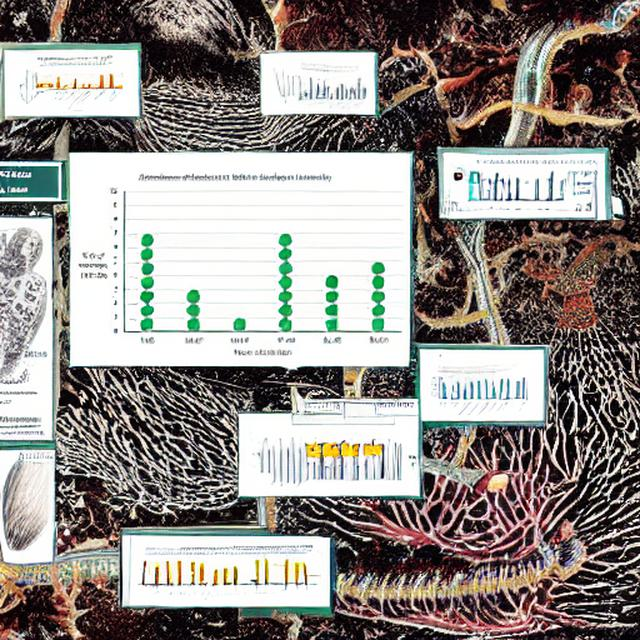Graph: (72, 168, 408, 363), (23, 54, 126, 113), (427, 368, 513, 419), (290, 66, 368, 112)
